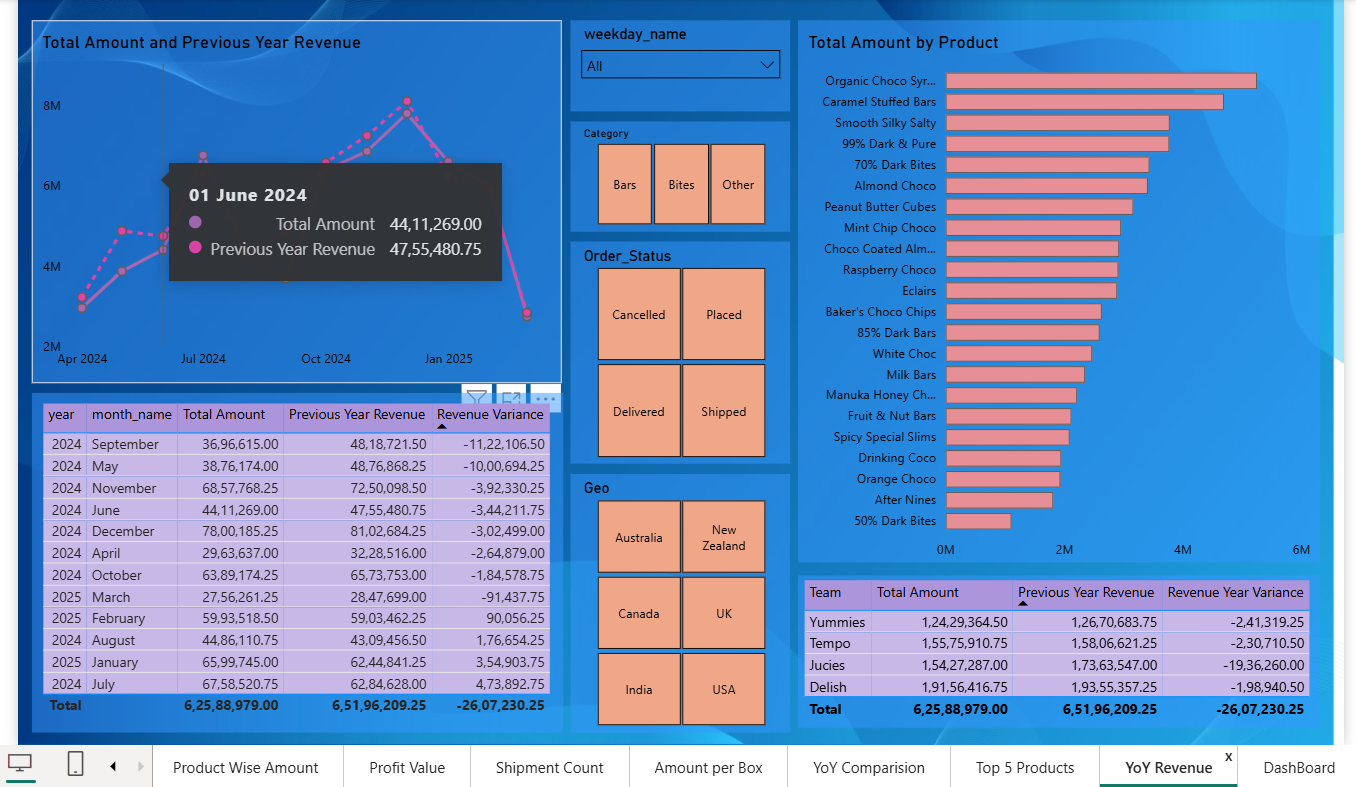

The page's visual inventory and layout, read from the dashboard file:
{"tool":"powerbi","page":{"name":"YoY Revenue","canvas":[1280,720],"ordinal":6},"visuals":[{"type":"lineChart","title":"Total Amount and Previous Year Revenue","fields":{"Category":["calendar.Start of Month"],"Y":["shipments.Total Amount","shipments.Previous Year Revenue"]},"box":[13.3,20.5,511.5,349.9],"z":0},{"type":"tableEx","fields":{"Values":["people.Team","shipments.Total Amount","shipments.Previous Year Revenue","shipments.Revenue Year Variance"]},"box":[752.8,556.2,504.3,147.2],"z":1},{"type":"tableEx","fields":{"Values":["calendar.year","calendar.month_name","shipments.Total Amount","shipments.Previous Year Revenue","shipments.Revenue Year Variance"]},"box":[13.3,380,512.7,328.2],"z":2},{"type":"clusteredBarChart","fields":{"Category":["products.Product"],"Y":["shipments.Total Amount"]},"box":[752.8,20.5,504.3,523.6],"z":3},{"type":"slicer","fields":{"Values":["products.Category"]},"box":[533.2,118.2,212.3,106.2],"z":4},{"type":"slicer","fields":{"Values":["shipments.Order_Status"]},"box":[533.2,234,212.3,214.7],"z":5},{"type":"slicer","fields":{"Values":["locations.Geo"]},"box":[533.2,458.4,212.3,249.7],"z":6},{"type":"slicer","fields":{"Values":["calendar.weekday_name"]},"box":[533.2,20.5,212.3,88.1],"z":7}]}

Visuals, with their boxes on the page's 1280x720 design canvas (x1, y1, x2, y2). These are canvas units, not pixel positions in the 1356x787 screenshot, which may show the page scaled, cropped or inside an application window:
"Total Amount and Previous Year Revenue" lineChart: box(13, 20, 525, 370)
tableEx - people.Team x shipments.Total Amount: box(753, 556, 1257, 703)
tableEx - calendar.year x calendar.month_name: box(13, 380, 526, 708)
clusteredBarChart - products.Product x shipments.Total Amount: box(753, 20, 1257, 544)
slicer - products.Category: box(533, 118, 746, 224)
slicer - shipments.Order_Status: box(533, 234, 746, 449)
slicer - locations.Geo: box(533, 458, 746, 708)
slicer - calendar.weekday_name: box(533, 20, 746, 109)
